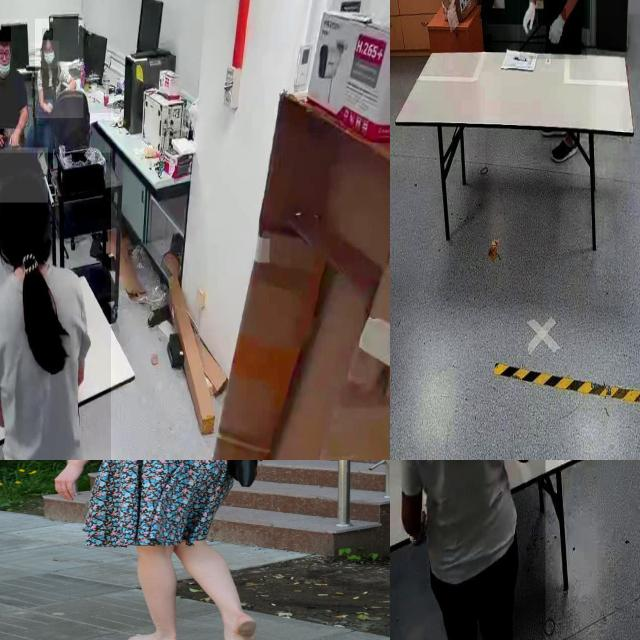Barefoots: (217, 615, 256, 640), (126, 633, 181, 640)
face_mask: (42, 41, 59, 68)
face_nomask: (0, 45, 11, 68)
hand_glove: (546, 8, 566, 53), (518, 0, 538, 43)
hand_noglove: (8, 129, 21, 148), (44, 99, 53, 113), (0, 128, 5, 150)
head_nohelmet: (0, 147, 48, 203), (0, 26, 11, 42), (42, 28, 54, 41)
person: (0, 152, 111, 460), (390, 460, 546, 640), (35, 19, 84, 119), (519, 0, 587, 59), (0, 18, 28, 150)
shoes: (550, 131, 580, 168)
